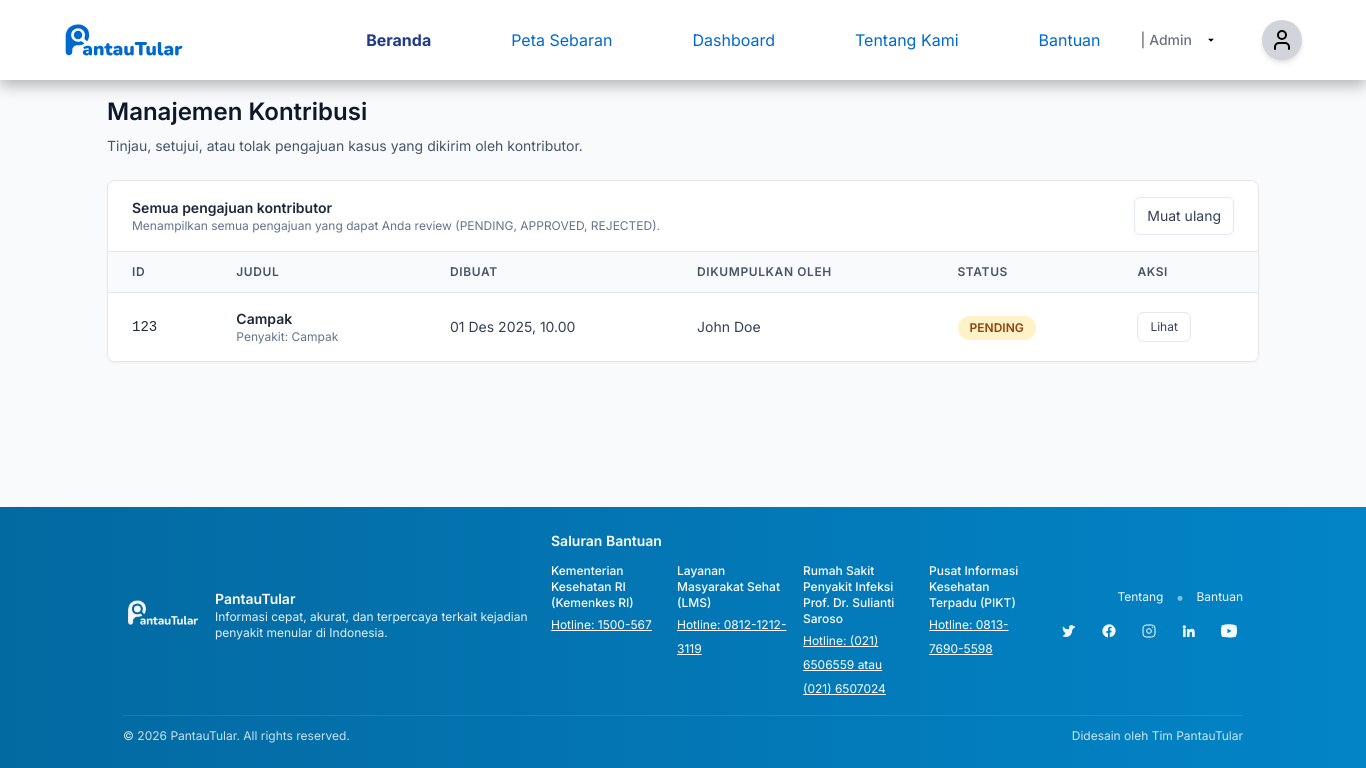
Test: ContributionManagementPage › view modal handles location with only province
Check: the text "123" is shown, box [108, 292, 212, 361]
Step 1. Click the button "Lihat" → point(1164, 327), box [1137, 312, 1191, 342]
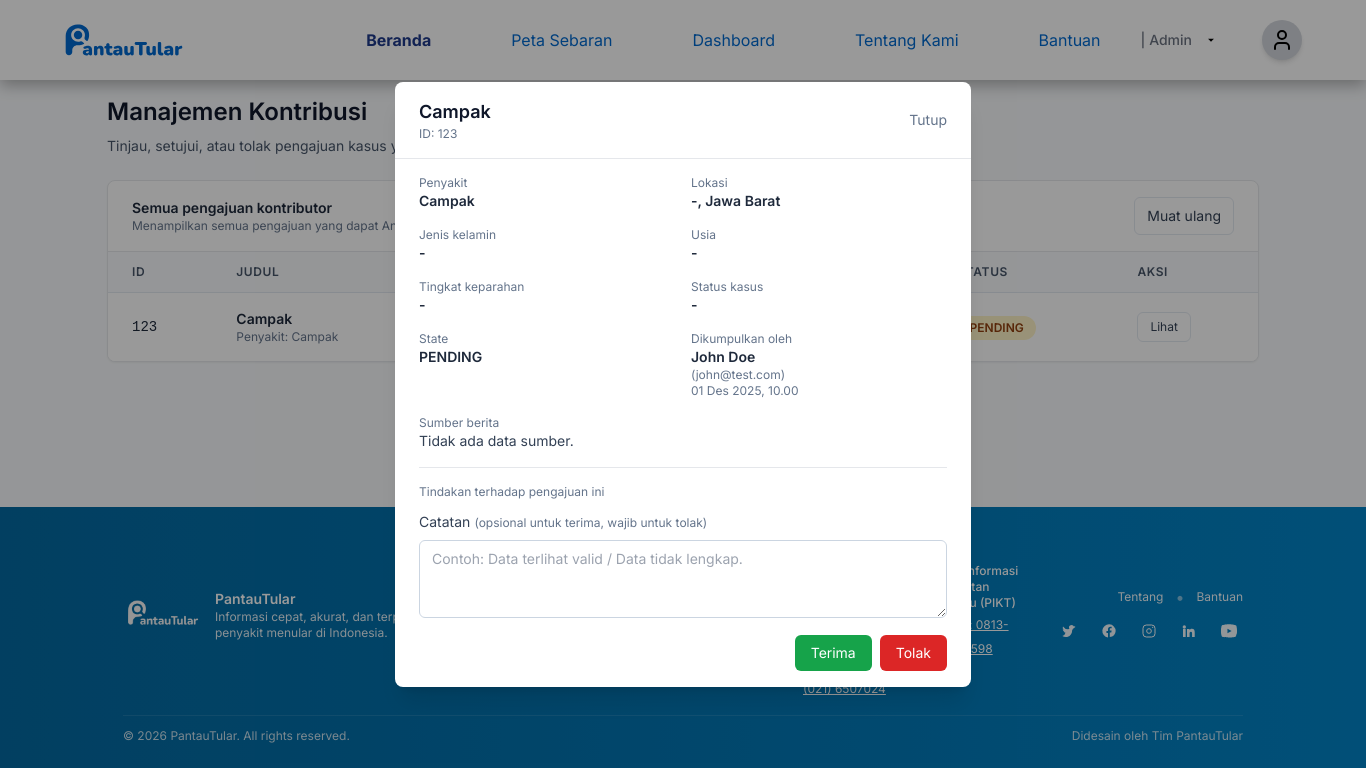
Check: the text "-, Jawa Barat" is shown, box [691, 192, 780, 208]
